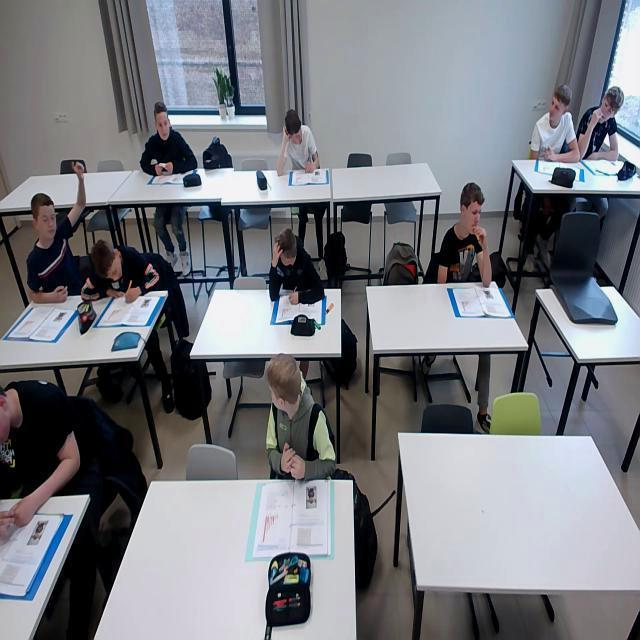Looking away: (267, 352, 303, 417), (461, 182, 485, 234), (598, 81, 622, 128), (274, 225, 299, 266), (548, 82, 569, 122)
Looking forward: (156, 104, 170, 140)
Raising hand: (27, 162, 88, 304)
Reading-writing: (76, 238, 176, 304), (276, 109, 329, 187)
